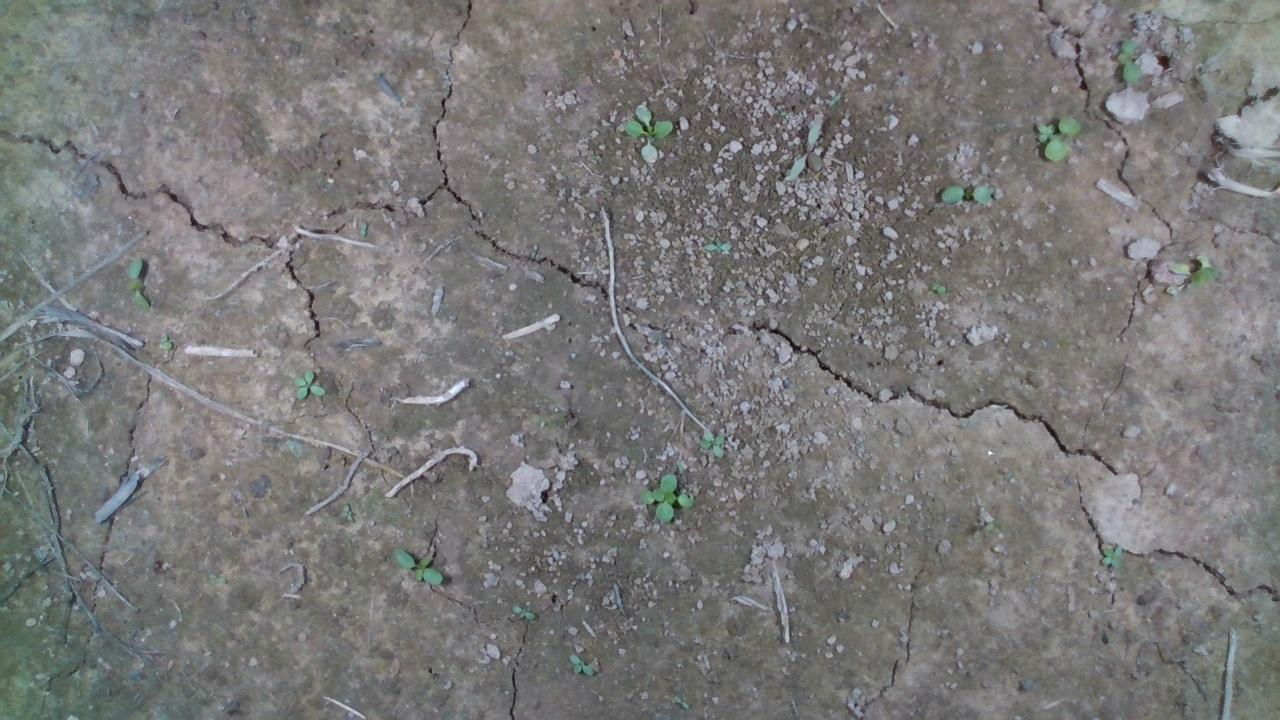weed: (621, 101, 685, 144), (388, 545, 445, 588), (641, 471, 685, 521), (1031, 113, 1069, 163), (939, 176, 997, 205), (1113, 35, 1143, 83), (560, 649, 600, 678), (289, 369, 324, 400), (695, 429, 720, 455)
